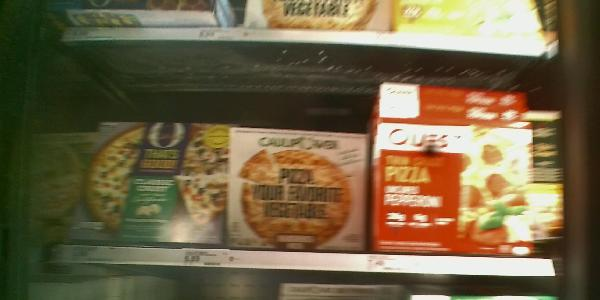pizza: (376, 124, 533, 254), (77, 118, 223, 246), (230, 128, 363, 251)
pizza1: (379, 79, 526, 108), (378, 103, 525, 128)
